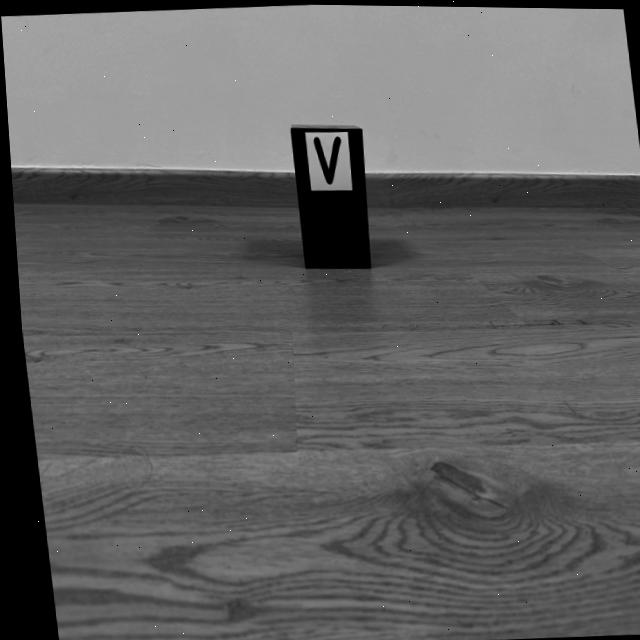V: (312, 136, 339, 184)
